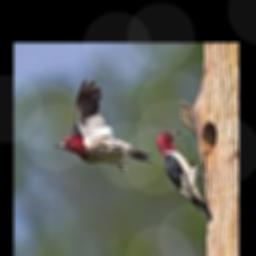Woodpecker: (53, 79, 153, 170), (155, 129, 212, 221)
